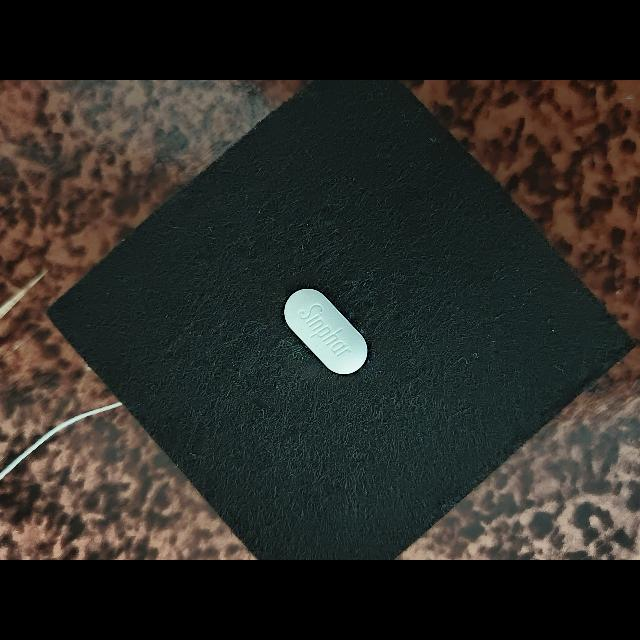Intact Pill: (284, 289, 367, 374)
